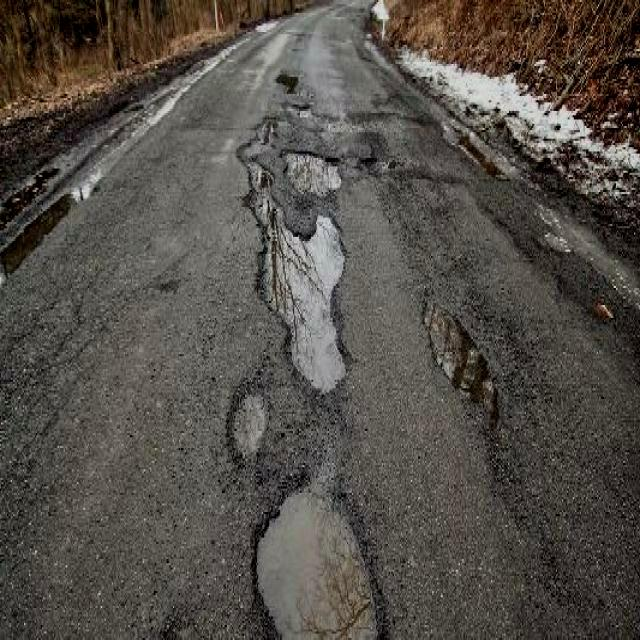Pothole: (247, 476, 385, 638), (253, 211, 348, 393), (419, 290, 502, 429), (239, 109, 281, 215), (227, 382, 269, 465), (281, 145, 343, 196), (283, 98, 317, 119)
